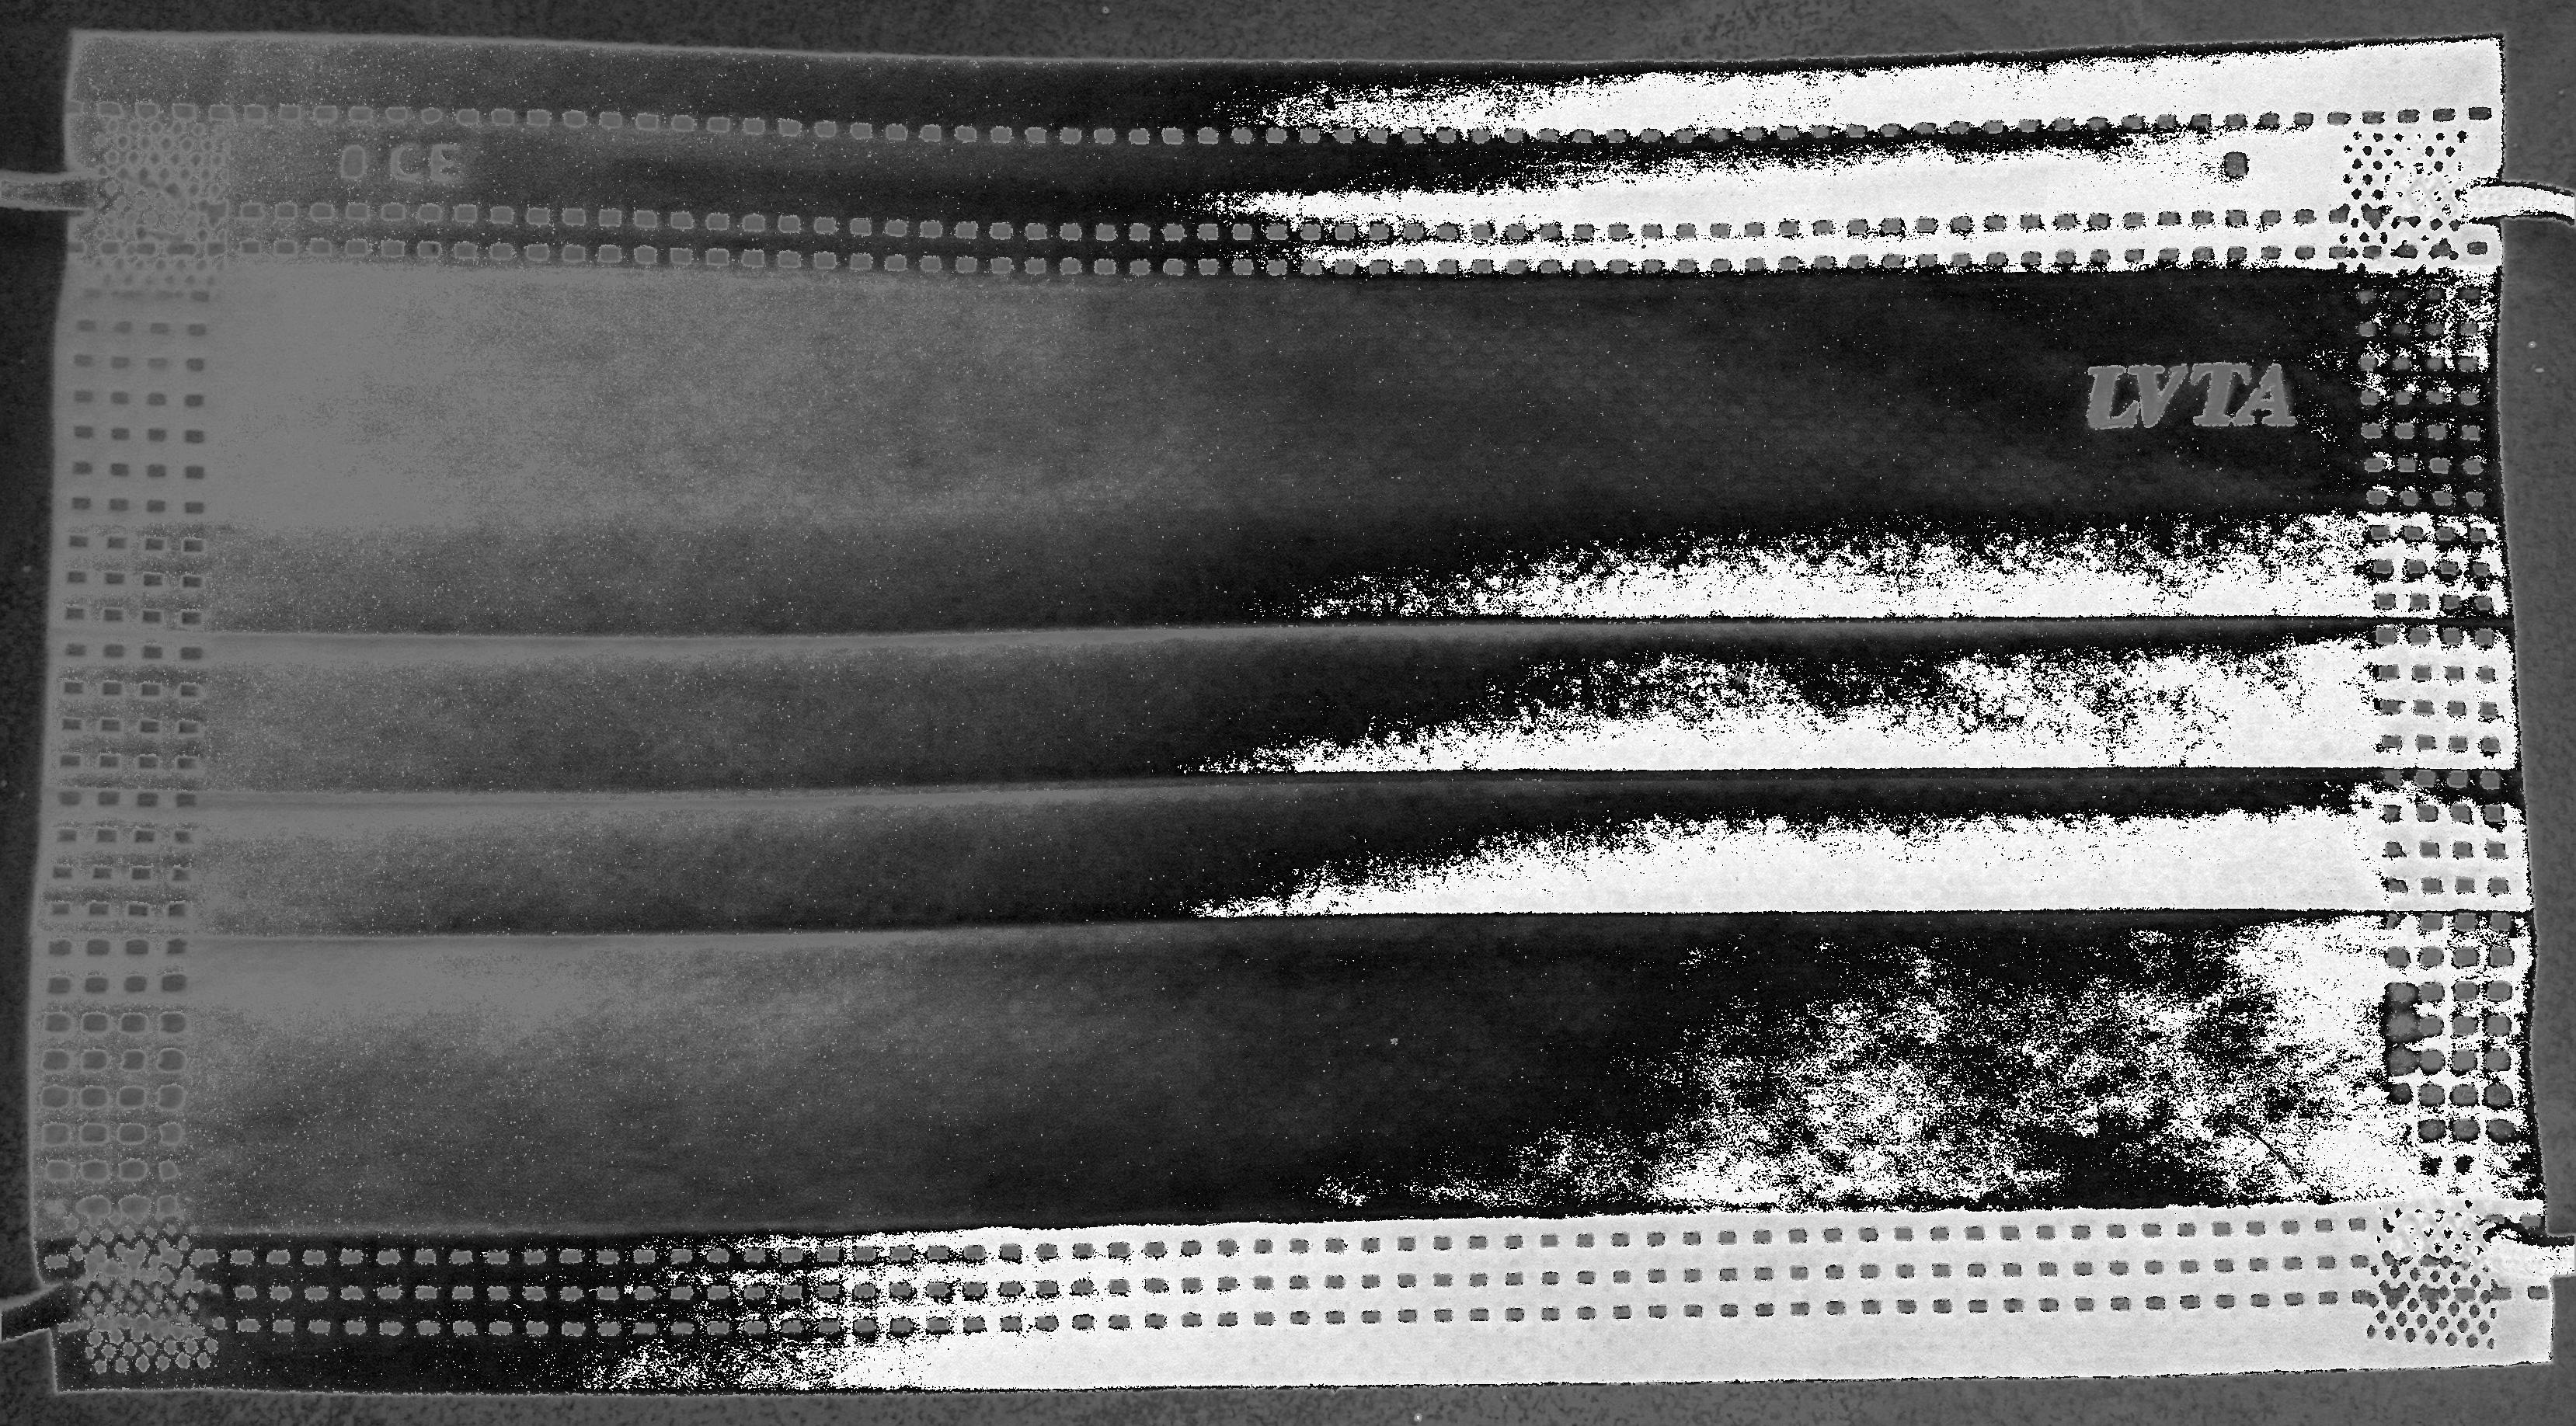High GSM: (532, 302, 2371, 1198)
